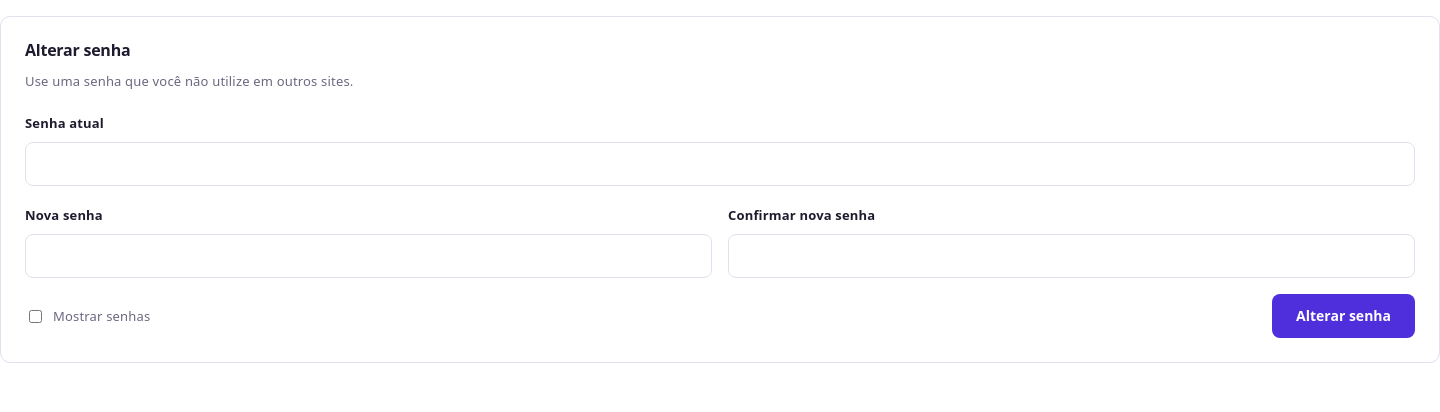
FormularioSenha › não aceita a nova senha igual à atual
The image size is (1440, 412).
In the password field labelled "Senha atual": [720, 164] box [25, 142, 1415, 186], type "mesma123"
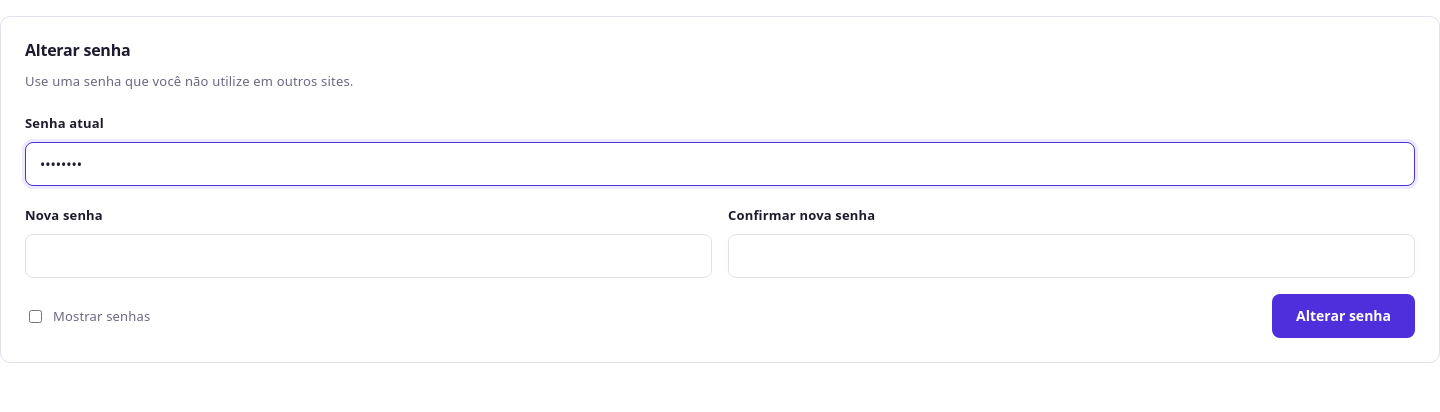
In the password field labelled "Nova senha": [368, 256] box [25, 234, 712, 278], type "mesma123"
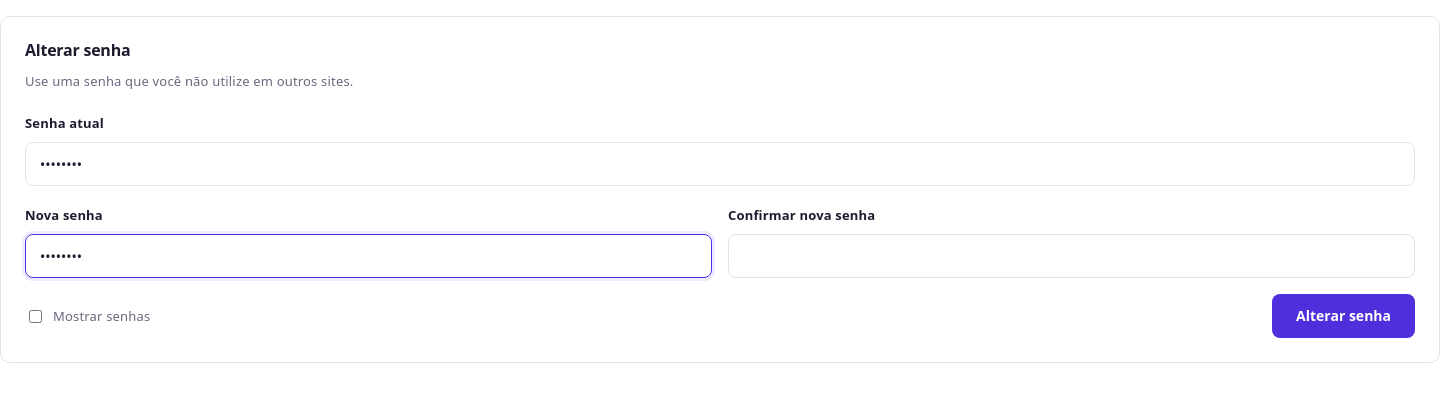
In the password field labelled "Confirmar nova senha": [1072, 256] box [728, 234, 1415, 278], type "mesma123"
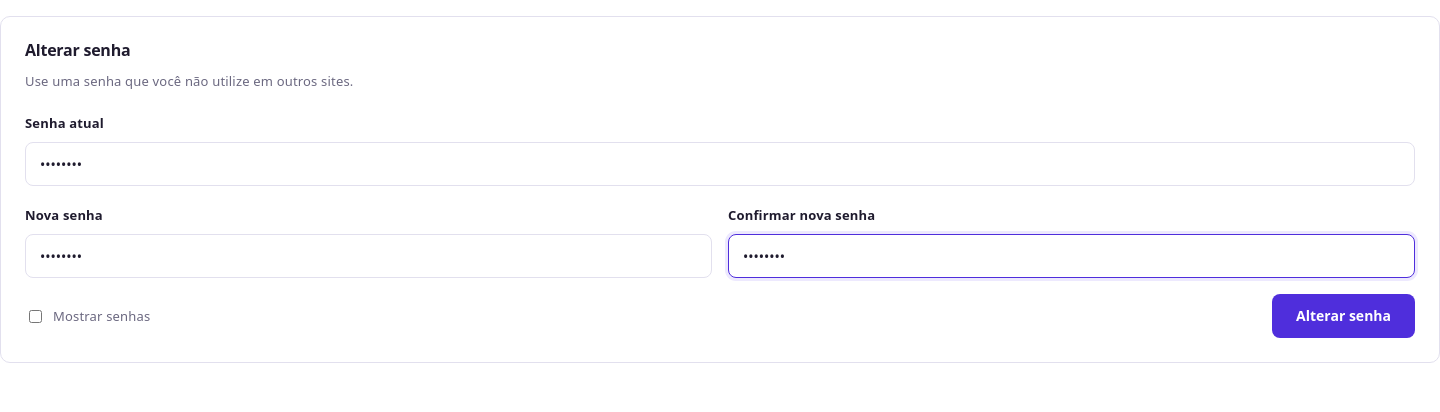
Click the button "Alterar senha": [1344, 316] box [1272, 294, 1415, 338]
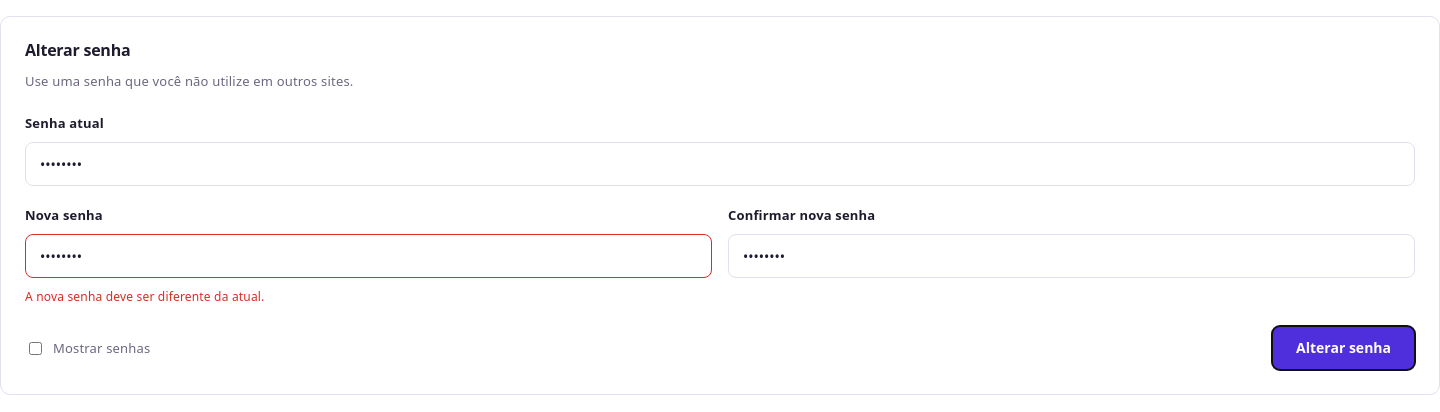
Now the text "A nova senha deve ser diferente da atual." is shown, box [25, 288, 264, 305]
